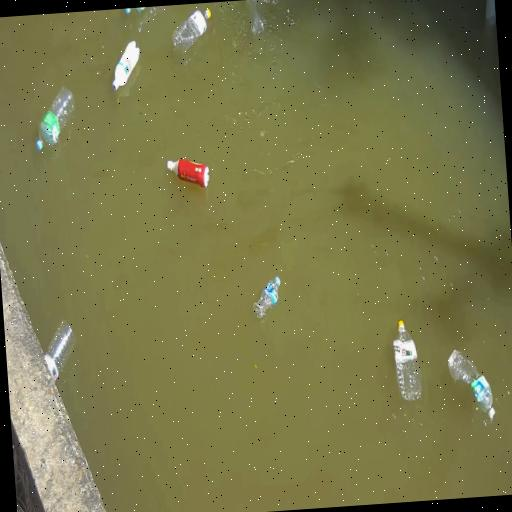plastic: (448, 350, 494, 420), (392, 320, 422, 404), (36, 87, 73, 150), (44, 321, 74, 381), (172, 9, 210, 54), (112, 41, 139, 91), (166, 159, 208, 187), (253, 277, 279, 319)
